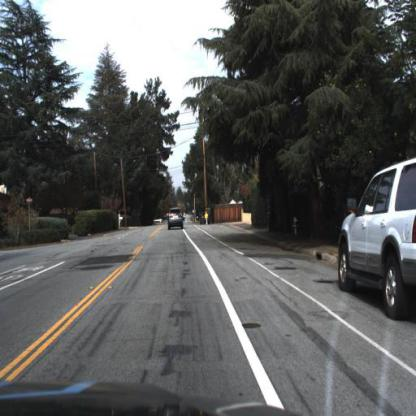car: (338, 156, 416, 325), (163, 202, 188, 238)
